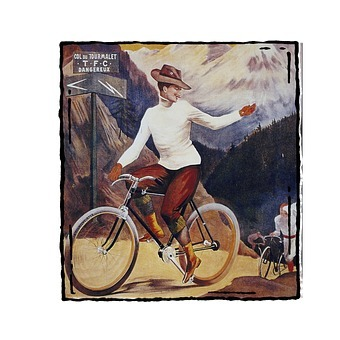bicycle: (62, 173, 241, 292), (255, 234, 294, 282)
person: (107, 61, 257, 284), (270, 199, 300, 276)
